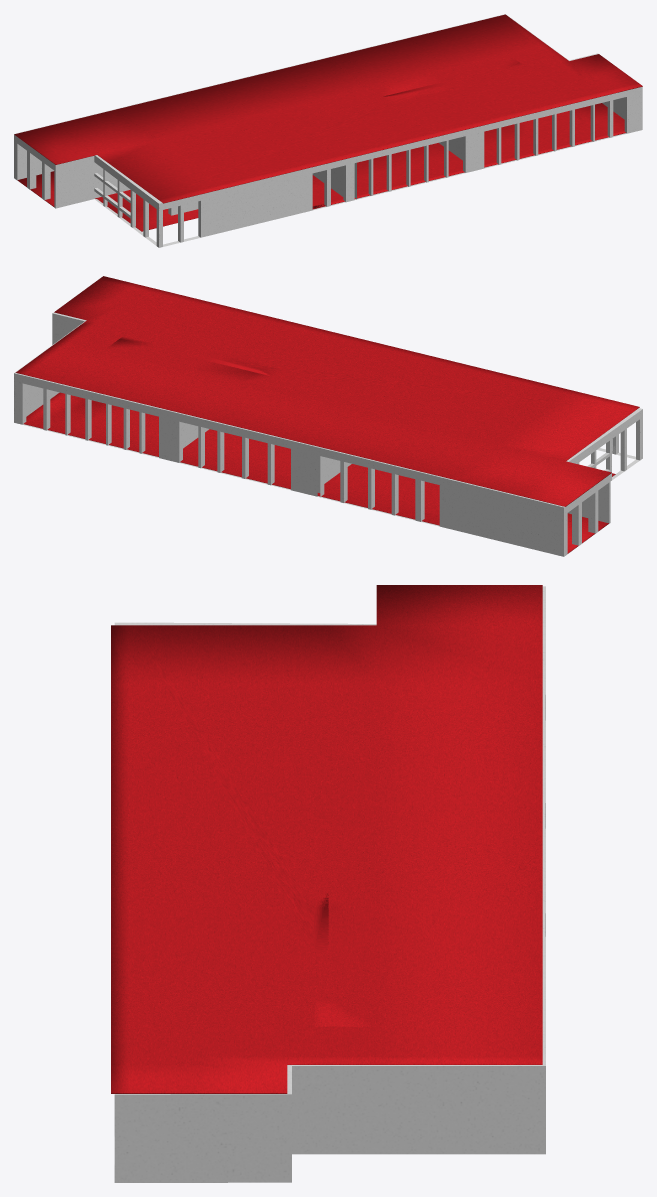
The model's file is MaterialsFloor2Actual2.fbx.
3 views of the same model, one above another, from view 1: azimuth 30°, elevation 25°; view 2: azimuth 150°, elevation 25°; view 3: azimuth 270°, elevation 25° (orthographic). The views are drawn at different scales.
Visible parts, largest first — view 1: Plane, Cube.001; view 2: Plane, Cube.001; view 3: Plane, Cube.001.
Boxes of the visible parts, x1,y1,x2,y2 form: Plane: (14,14,642,231); Cube.001: (14,14,642,247); Plane: (15,276,639,553); Cube.001: (14,277,642,556); Plane: (111,585,542,1093); Cube.001: (114,586,545,1182).
Bounding box in the file's own units: 6940 × 567 × 2506.
Materials: 2 (2 with a texture image).
